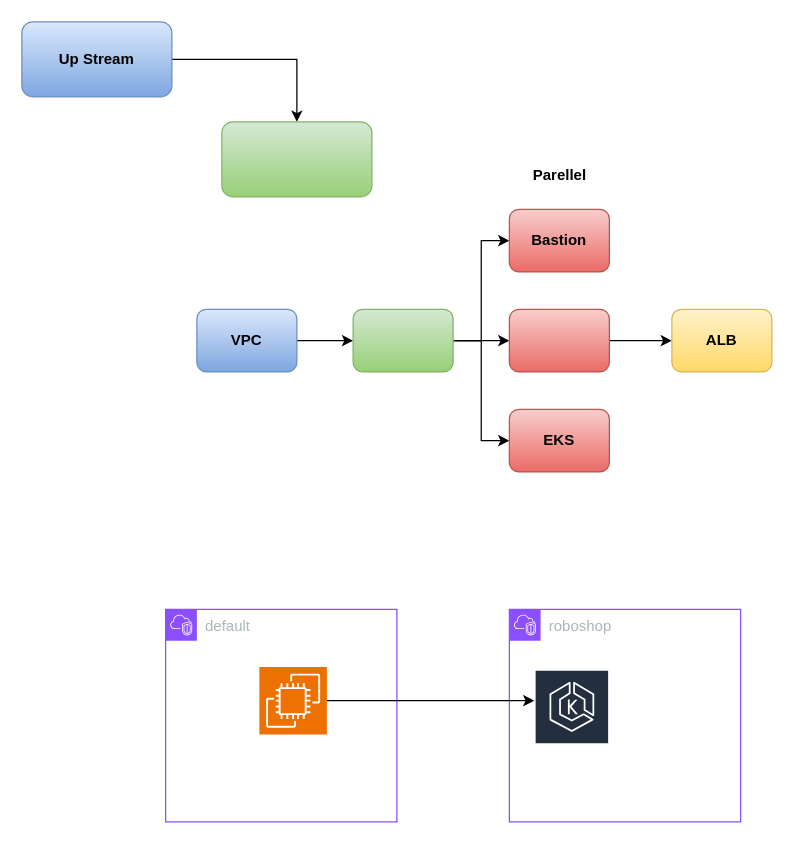
The diagram is 794 pixels wide and 844 high, and some of its shapes have lost their labels. The centre of each missing label's shape, as x and y in pixels:
"ACM" belongs at (558,340).
"Down Stream" belongs at (296,159).
"SG" belongs at (402,340).
